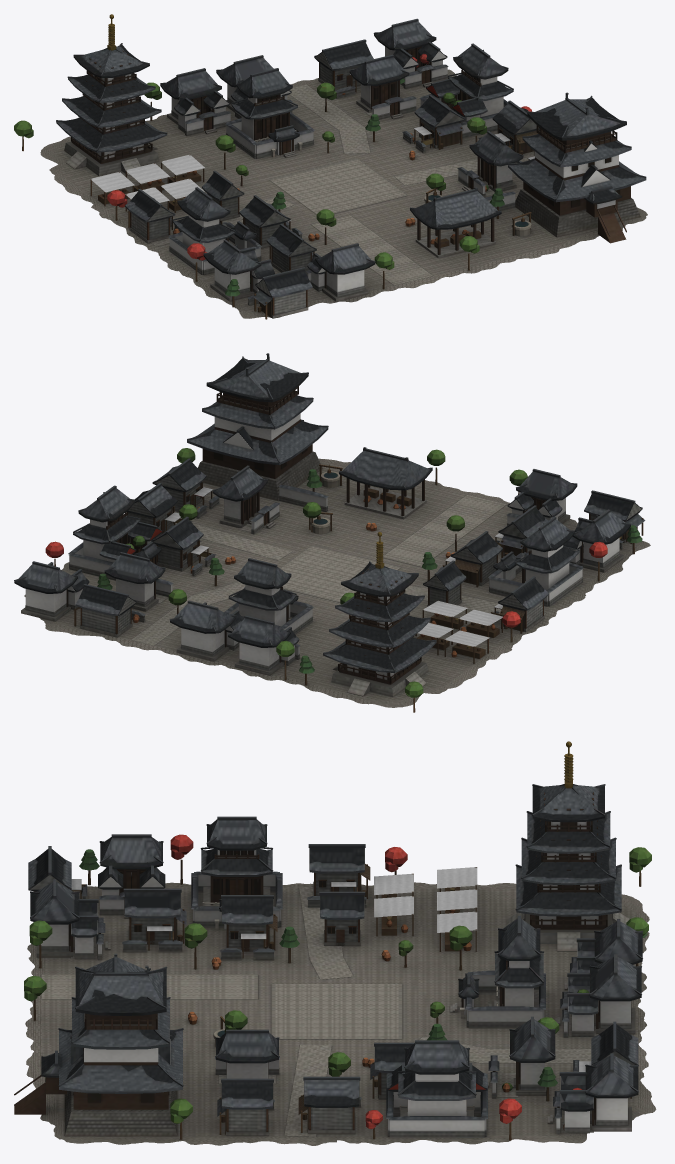
Rendered from kingdoms-town-medium-b-japan.glb.
The picture shows the model from 3 angles, top to bottom: view 1: azimuth 30°, elevation 25°; view 2: azimuth 150°, elevation 25°; view 3: azimuth 270°, elevation 25°; orthographic projection. The views are drawn at different scales.
Visible parts, largest first — view 1: LOD0; view 2: LOD0; view 3: LOD0.
Boxes of the visible parts, x1,y1,x2,y2 form: LOD0: (14,14,647,319); LOD0: (14,353,650,712); LOD0: (14,741,656,1145).
Size of what is drawn, in the model's own units: 6.04 by 1.95 by 6.14.
3 materials, 3 textured.
